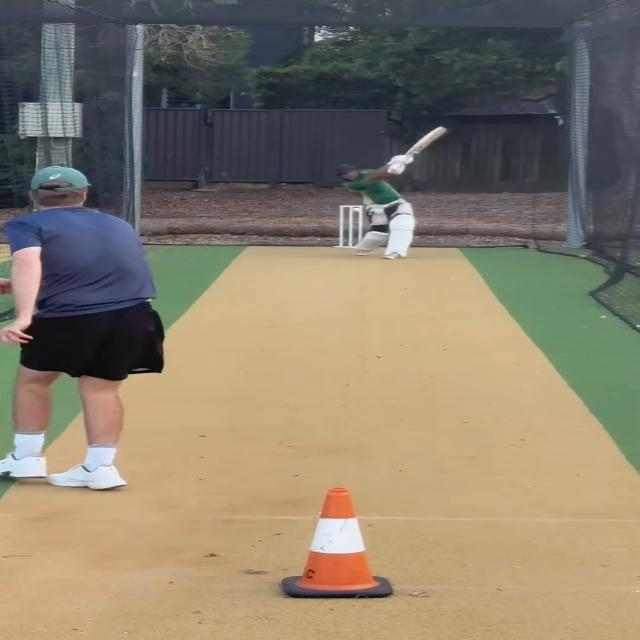ball: (351, 206, 363, 214)
stump: (338, 203, 367, 250)
